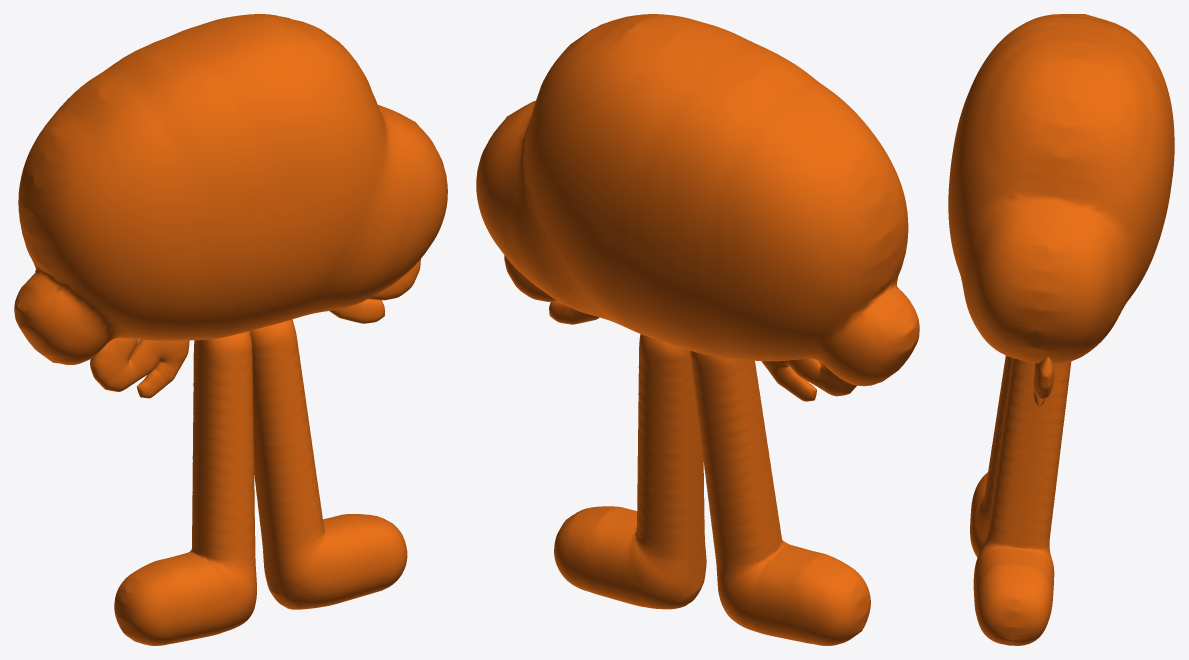
File: Darwin.glb
The picture shows the model from 3 angles, left to right: view 1: azimuth 30°, elevation 25°; view 2: azimuth 150°, elevation 25°; view 3: azimuth 270°, elevation 25°; orthographic projection. The views are drawn at different scales.
Visible parts, largest first — view 1: node_id37, node_id41, node_id33, node_id39, node_id31, node_id35; view 2: node_id37, node_id41, node_id33, node_id39, node_id35, node_id31; view 3: node_id37, node_id33, node_id41, node_id35.
Part boxes in pixels (<box>): node_id37: <box>14,14,447,364</box>; node_id41: <box>114,331,256,645</box>; node_id33: <box>250,319,407,609</box>; node_id39: <box>90,338,189,398</box>; node_id31: <box>329,299,384,323</box>; node_id35: <box>368,259,420,300</box>; node_id37: <box>476,14,919,386</box>; node_id41: <box>690,350,870,645</box>; node_id33: <box>554,334,706,609</box>; node_id39: <box>761,358,856,401</box>; node_id35: <box>504,255,557,301</box>; node_id31: <box>549,301,599,324</box>; node_id37: <box>948,14,1174,363</box>; node_id33: <box>973,358,1071,645</box>; node_id41: <box>970,355,1012,557</box>; node_id35: <box>1033,357,1053,398</box>.
Size of the model in its own units: 0.3727 by 0.4965 by 0.1837.
Materials: 6 (6 with a texture image).
